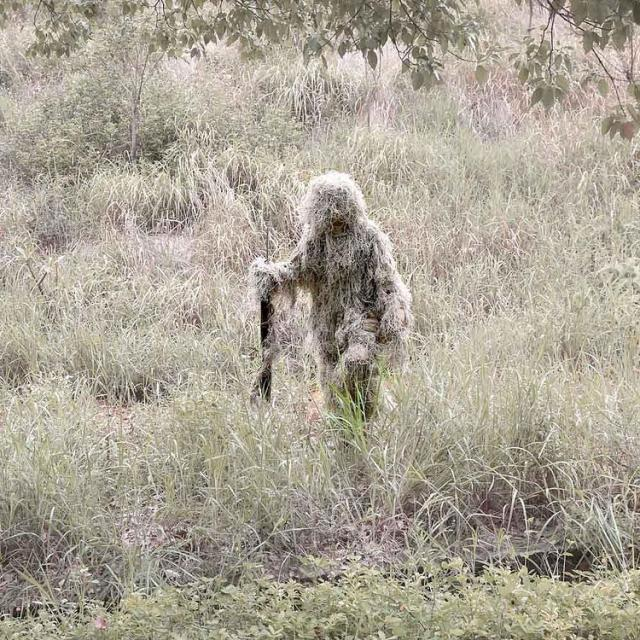Camouflage: (245, 172, 413, 426)
